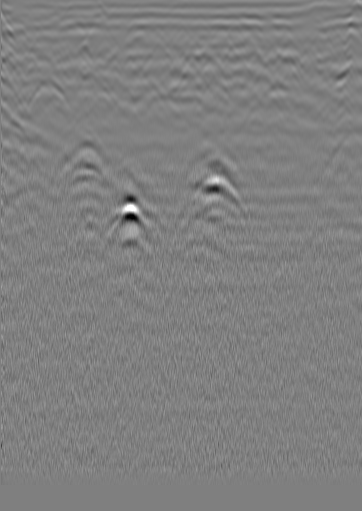가스: (112, 197, 152, 237)
상수: (310, 37, 330, 57)
오수: (35, 33, 55, 53)
우수: (174, 35, 194, 55)
